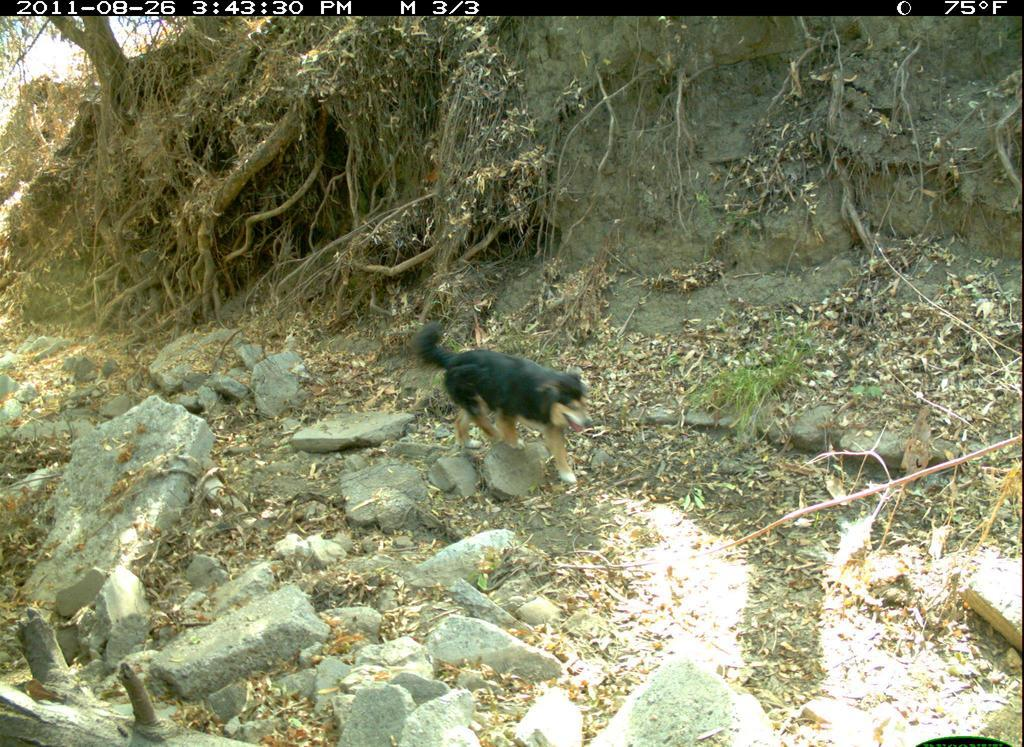dog: (400, 289, 610, 488)
